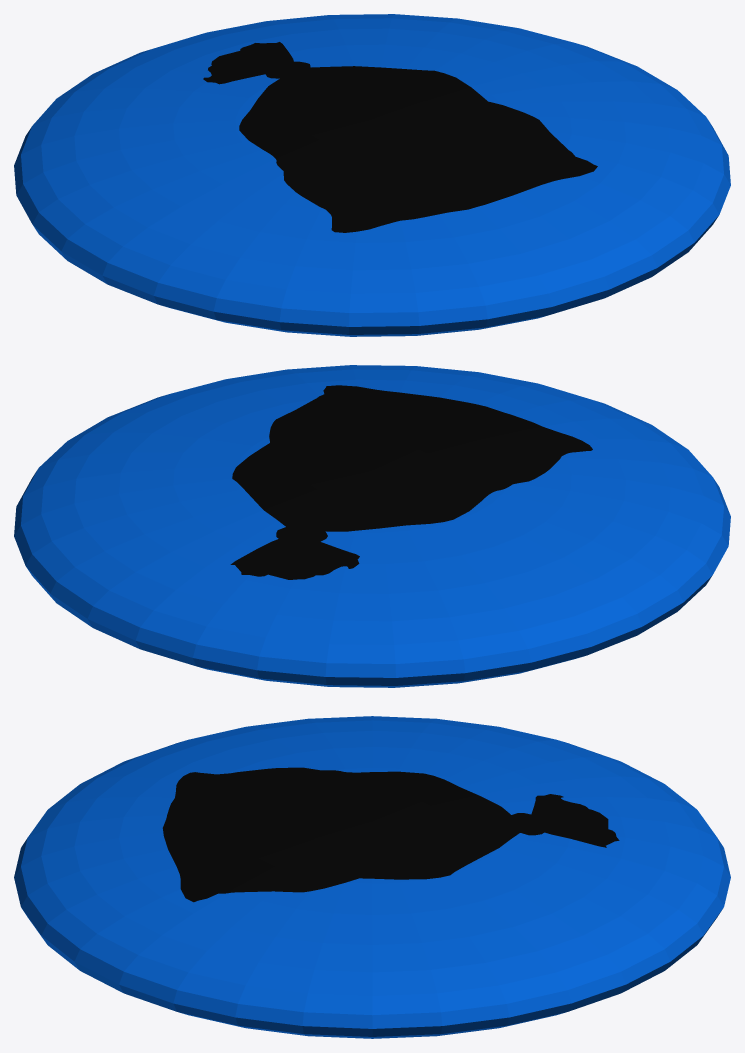
File: button2-1.fbx
3 renders of one model, top to bottom at view 1: azimuth 30°, elevation 25°; view 2: azimuth 150°, elevation 25°; view 3: azimuth 270°, elevation 25°, orthographic.
Parts seen in each view (by area): view 1: Sphere; view 2: Sphere; view 3: Sphere.
Boxes of the visible parts, x1=… form: Sphere: x1=14, y1=14, x2=730, y2=336; Sphere: x1=14, y1=365, x2=730, y2=687; Sphere: x1=14, y1=716, x2=730, y2=1038.
Bounding box in the file's own units: 200 × 34.42 × 200.
